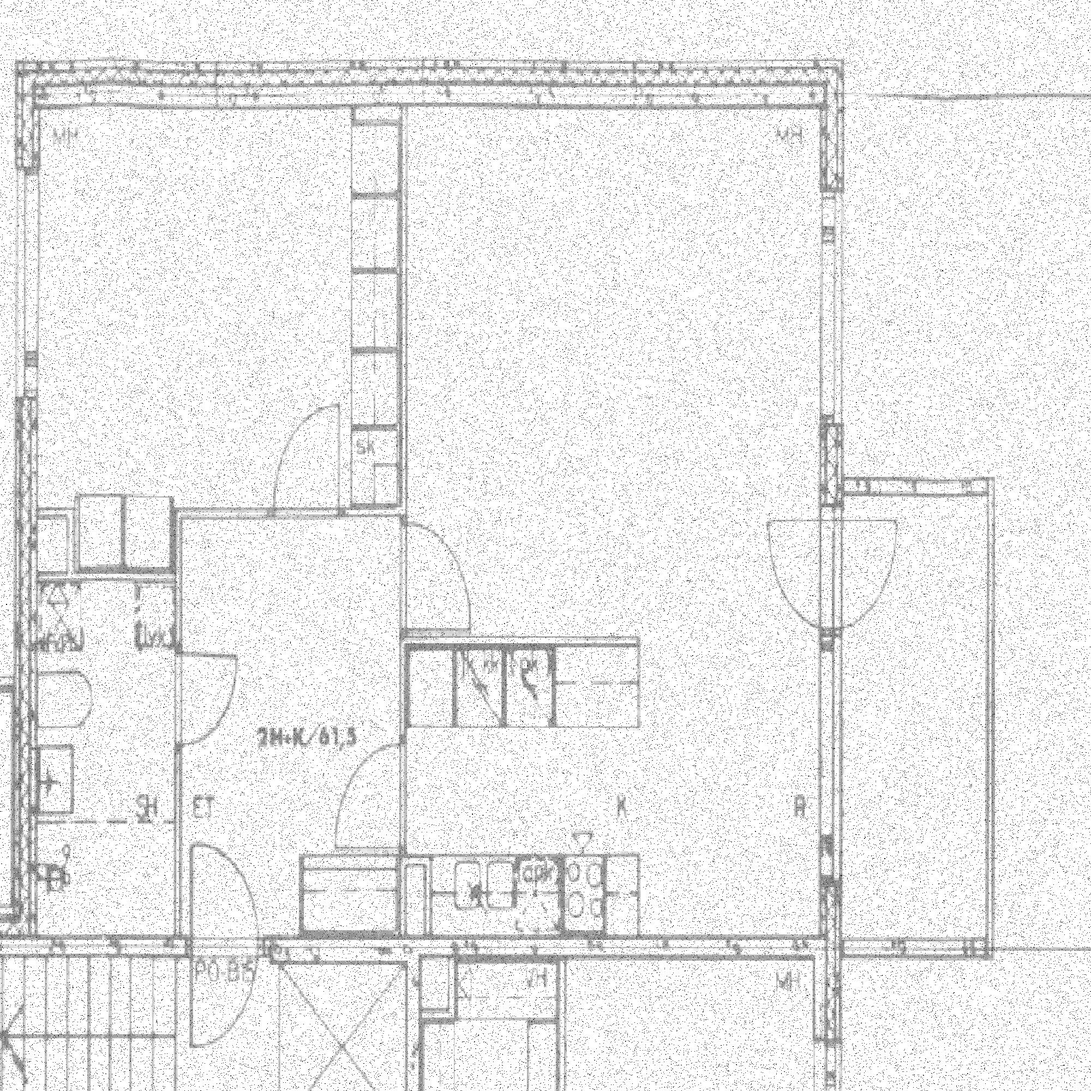wall: (11, 60, 843, 109), (10, 60, 37, 956), (10, 935, 994, 956), (819, 60, 842, 935), (174, 507, 182, 936), (400, 507, 408, 936), (400, 109, 408, 507), (400, 636, 639, 649), (174, 507, 407, 520), (842, 476, 994, 495), (37, 507, 74, 582), (408, 855, 432, 935), (38, 570, 174, 582)
